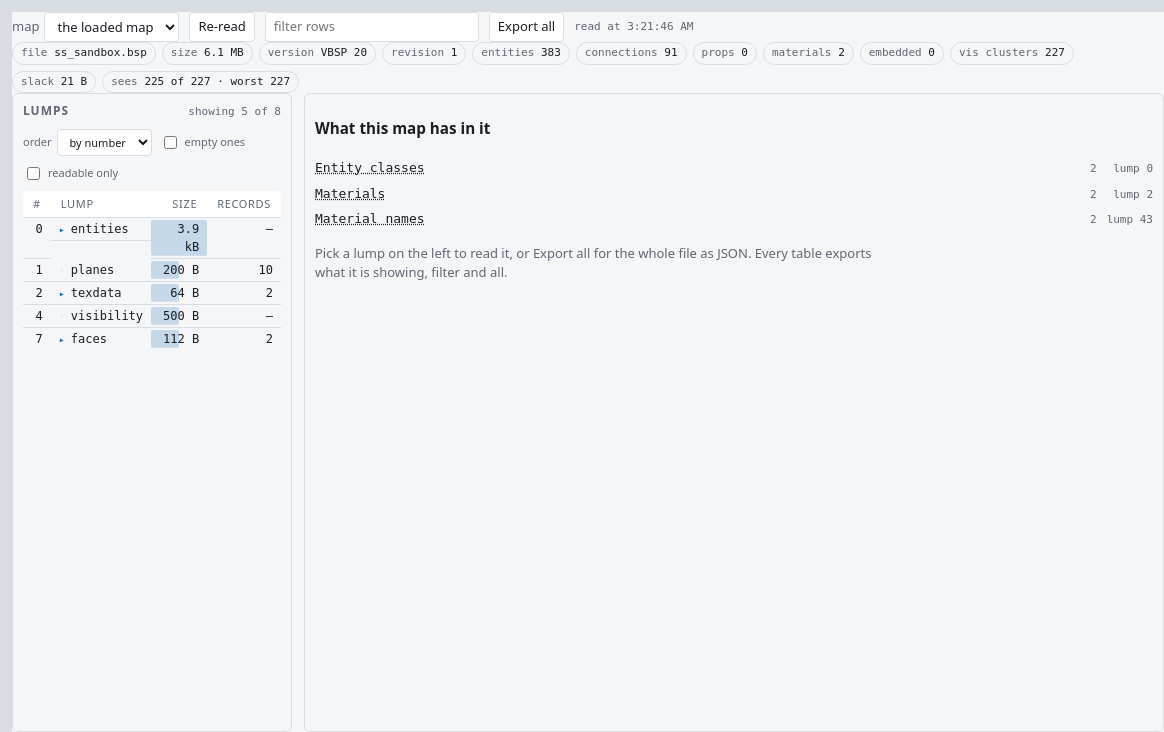
Test case: reading a lump › says why a lump has no table rather than showing an empty one
expect the text "ss_sandbox.bsp" is shown: met, box [54,46,147,59]
Click the row "4 visibility 500 B —" at (152, 316), box [23,304,281,328]
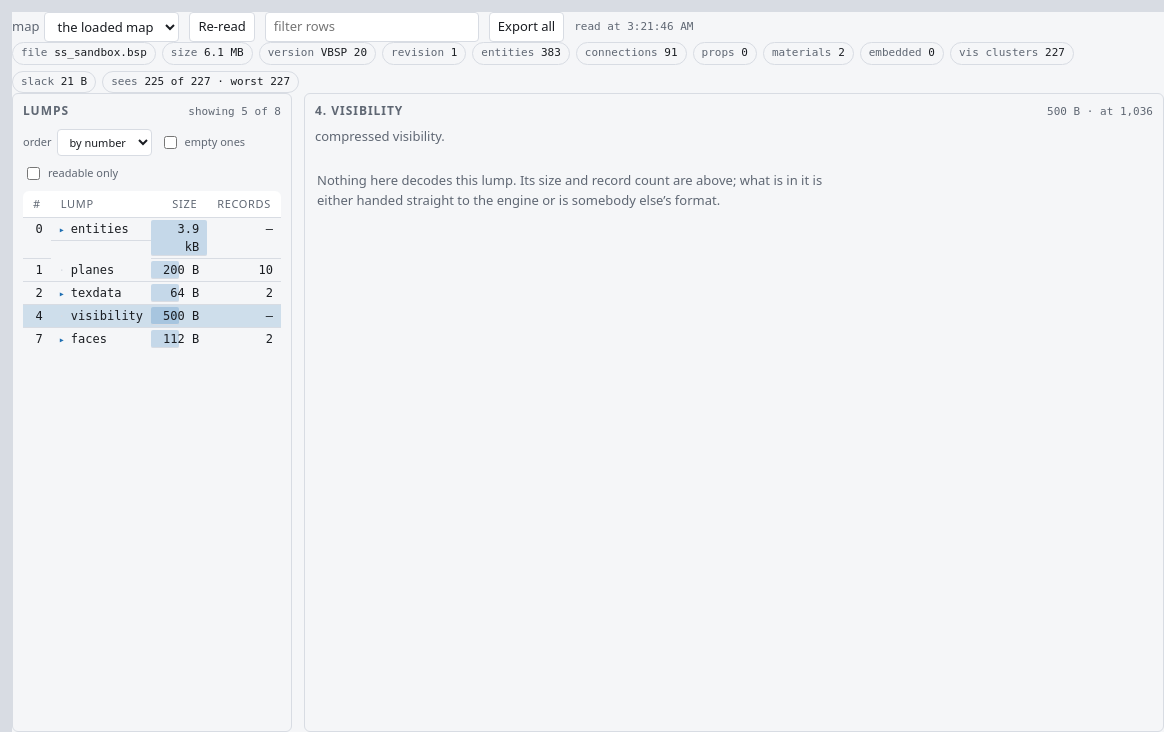
expect the text "Nothing here decodes this lump" is shown: met, box [317,171,822,208]
